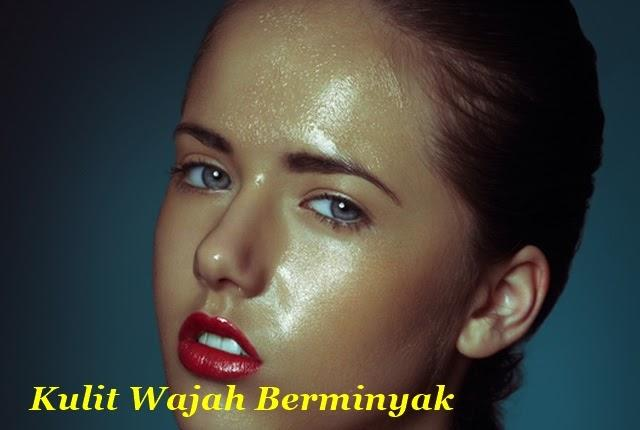Oily-Skin: (203, 19, 406, 160), (262, 222, 351, 349), (252, 167, 267, 189)
